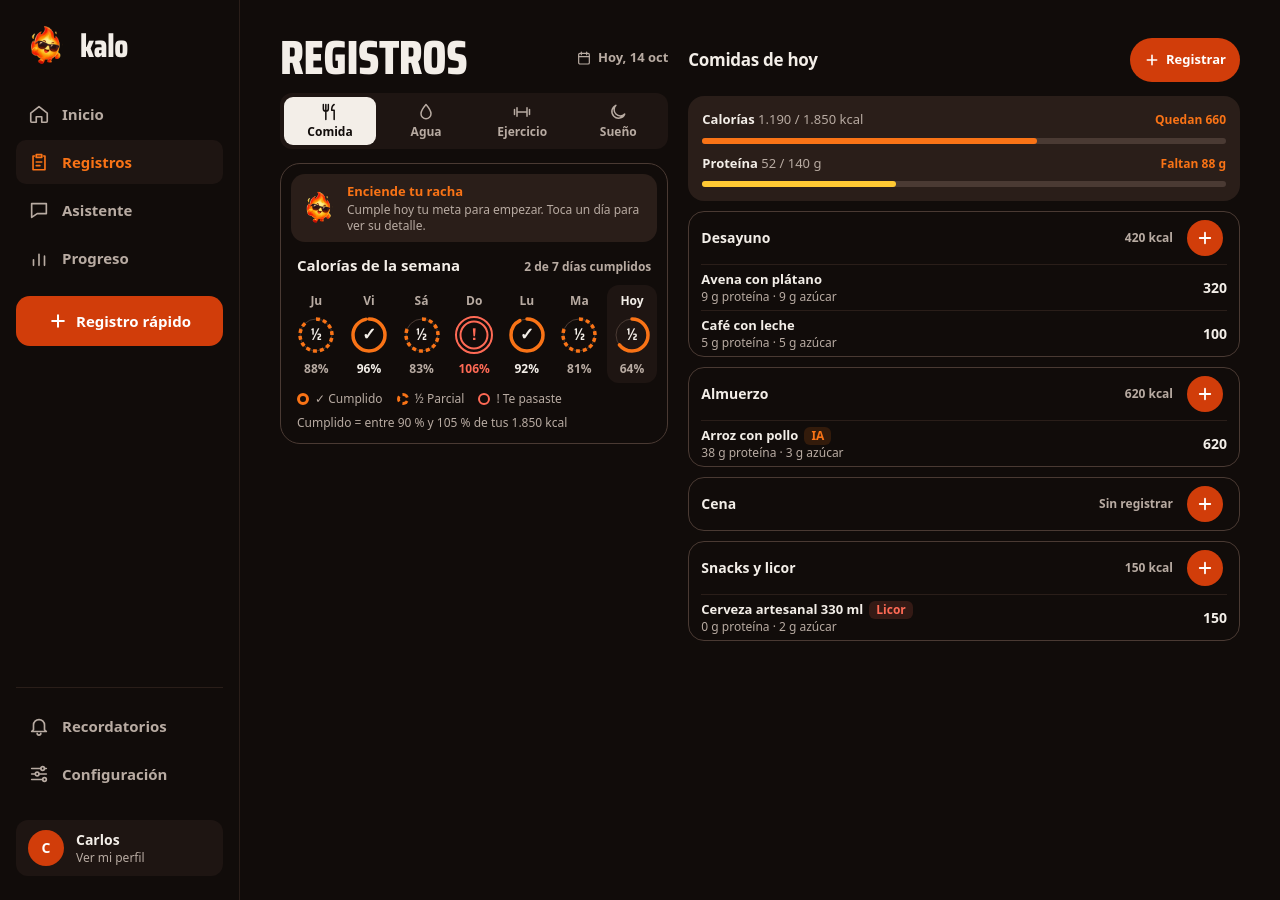
Registros · Comida › al tocar un día muestra su detalle
The image size is (1280, 900).
Click the button "Ma ½ 81%" at {"x": 579, "y": 334}, box [554, 285, 605, 383]
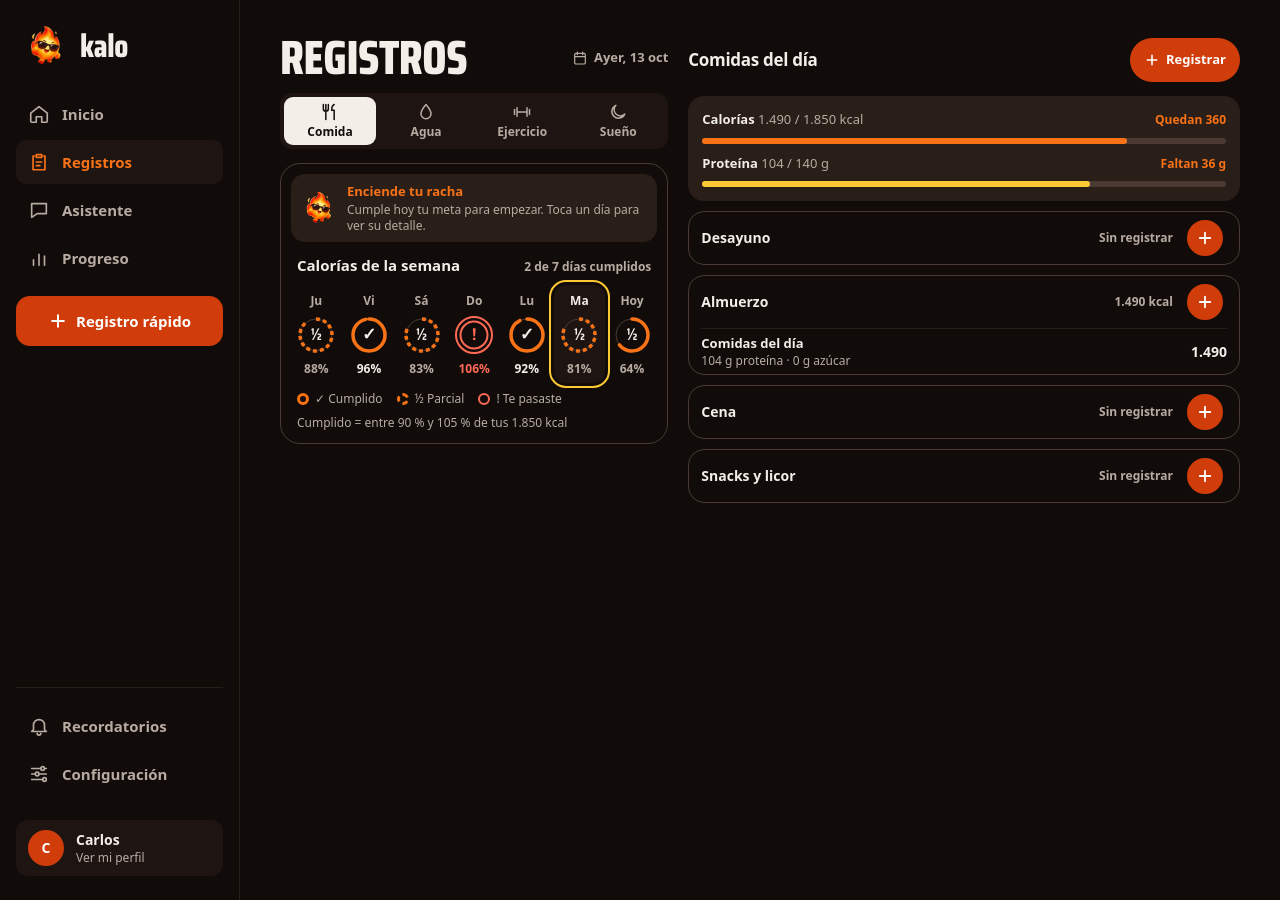
Now the heading "Comidas del día" is shown, box [688, 47, 818, 73]
Now the text "1.490 / 1.850 kcal" is shown, box [758, 110, 863, 128]
